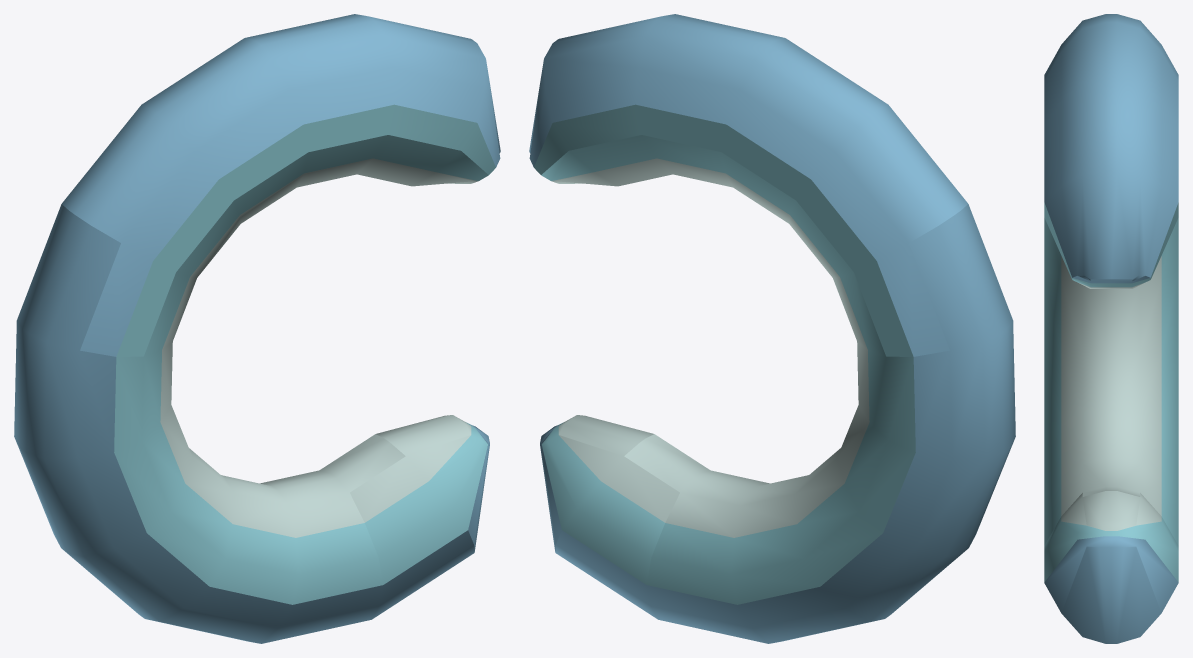
The model's file is Cresent.fbx.
3 views of the same model, side by side, from view 1: azimuth 30°, elevation 25°; view 2: azimuth 150°, elevation 25°; view 3: azimuth 270°, elevation 25° (orthographic). The views are drawn at different scales.
Parts seen in each view (by area): view 1: Circle; view 2: Circle; view 3: Circle.
Boxes of the visible parts, x1,y1,x2,y2 form: Circle: (14,14,500,643); Circle: (529,14,1015,643); Circle: (1044,14,1178,643).
Size of the model in its own units: 100 by 122 by 26.33.
